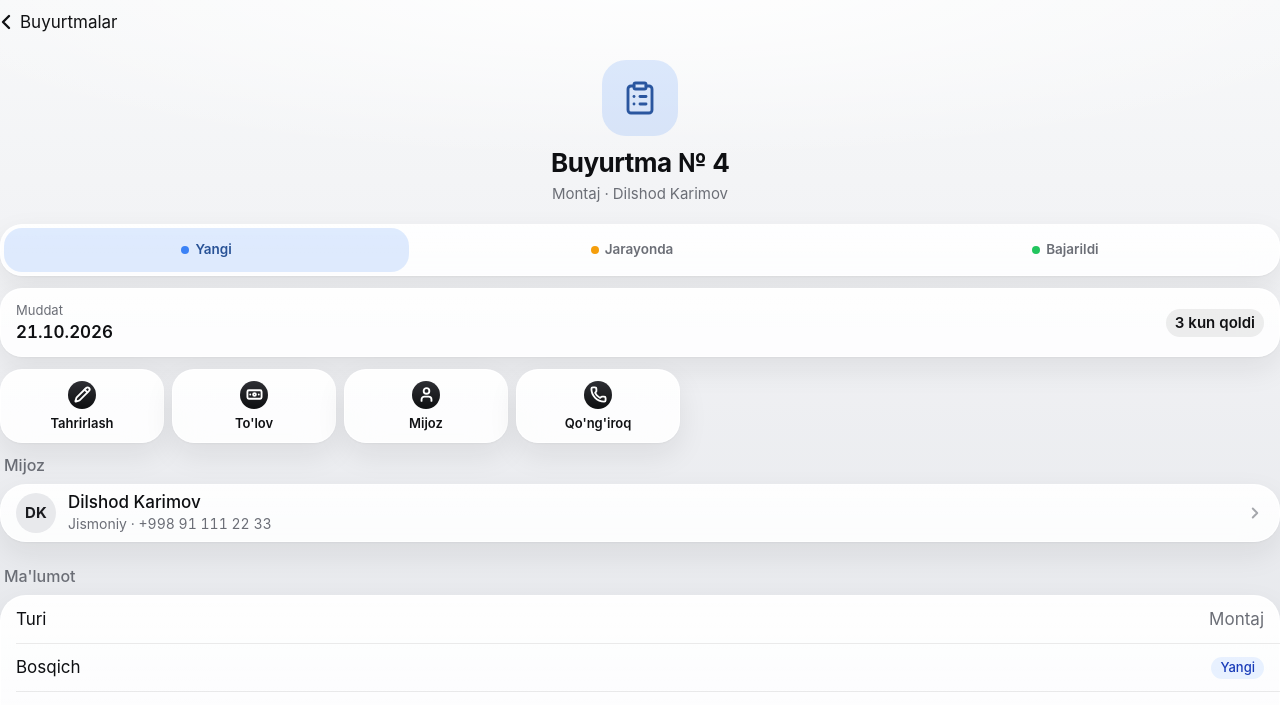
what is wrong with the edit is said in the API's words
This screenshot has width=1280, height=705.
Click the button "Tahrirlash" at {"x": 82, "y": 406}, box [0, 369, 164, 443]
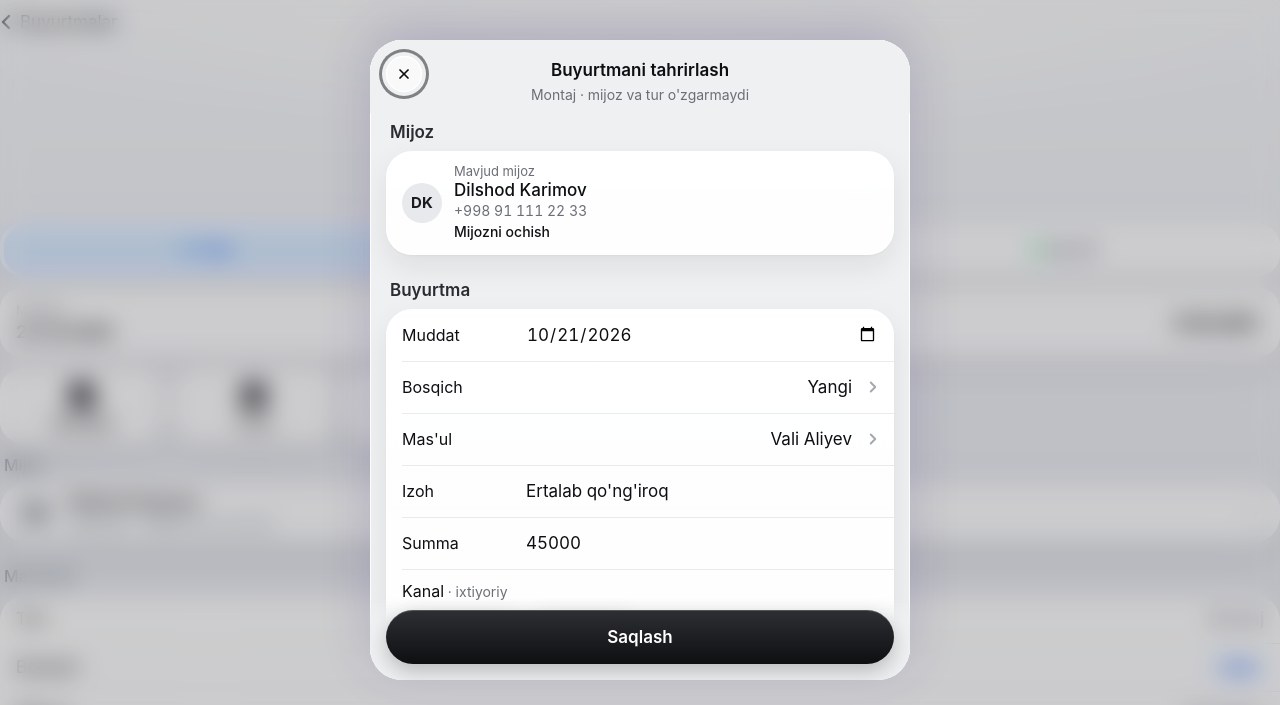
Clear the field labelled "Izoh" at {"x": 702, "y": 491}, box [526, 469, 878, 513]
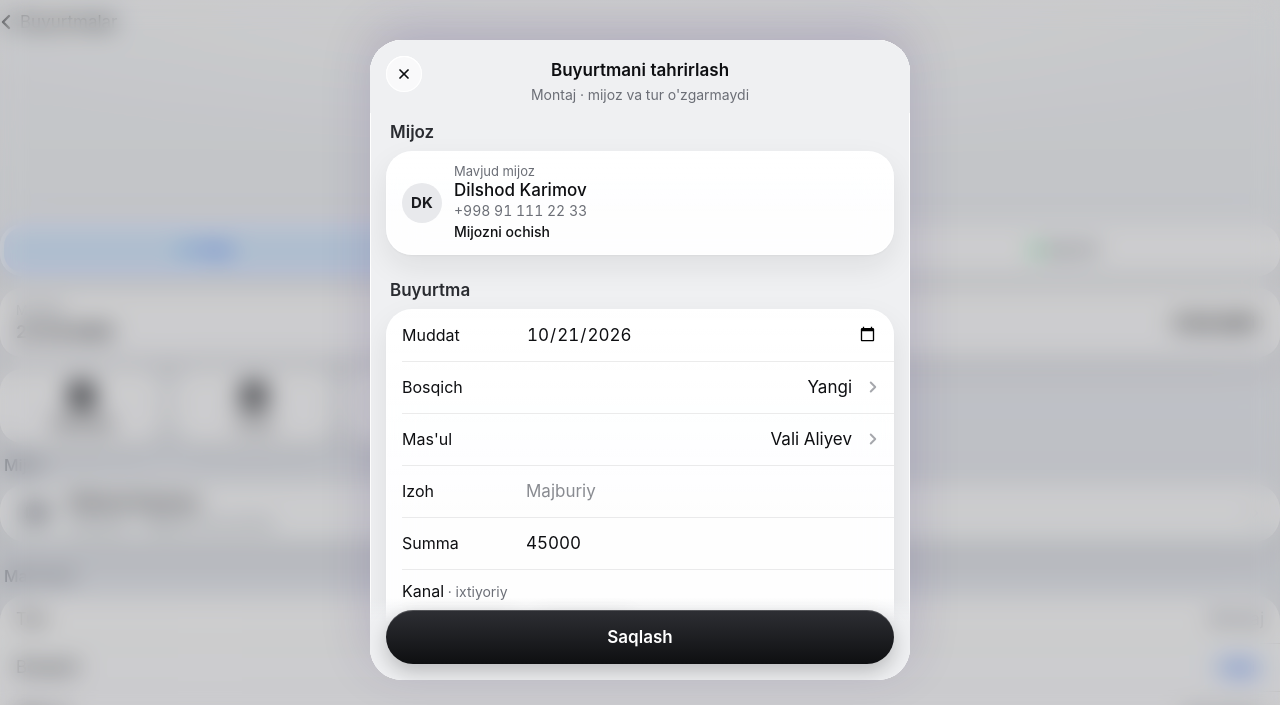
Click the button "Saqlash" at {"x": 640, "y": 637}, box [386, 610, 894, 664]
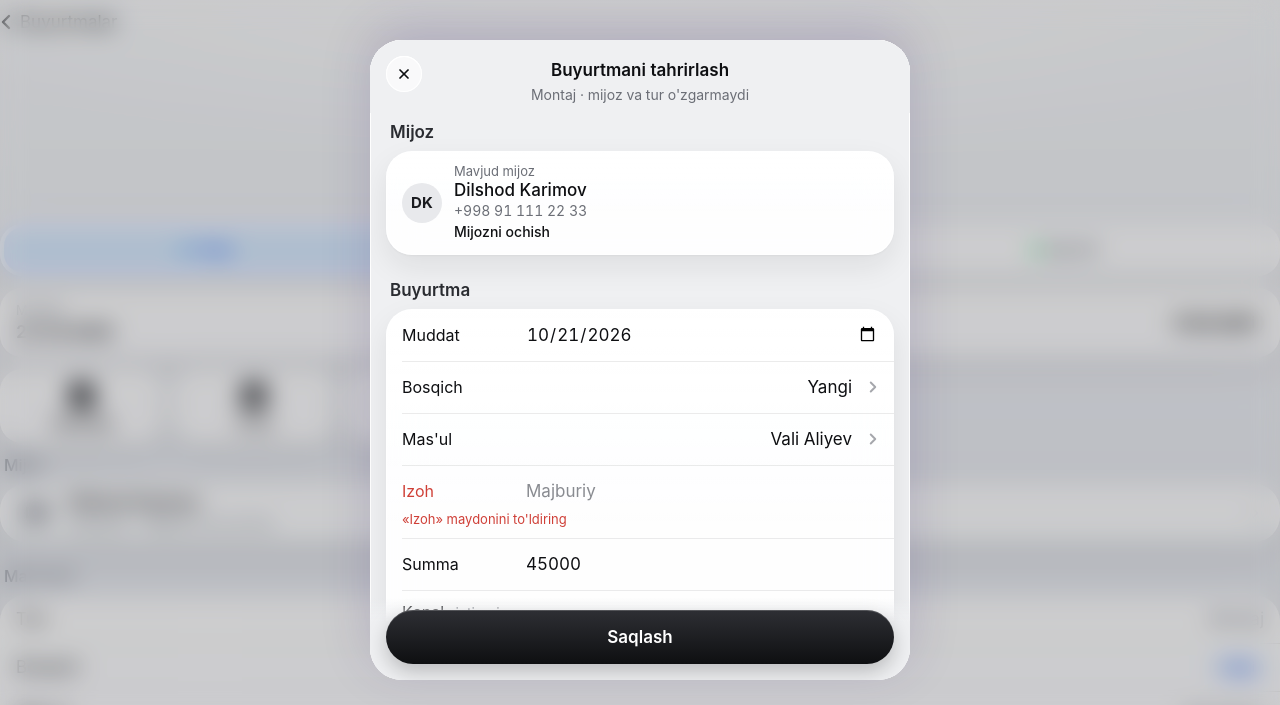
expect the text "«Izoh» maydonini to'ldiring" is shown: met, box [402, 511, 567, 527]
